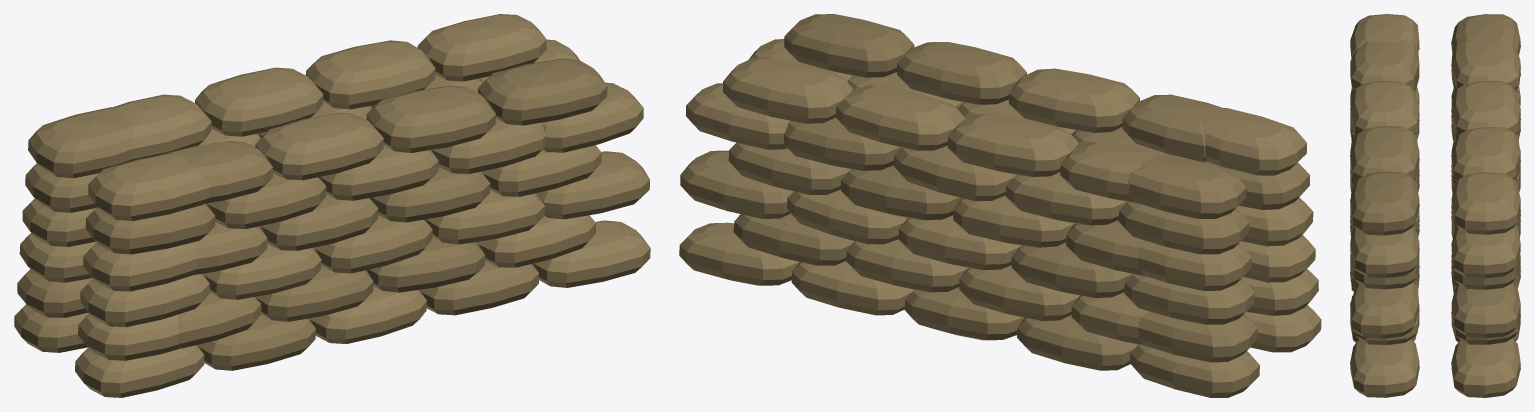
File: sandbags_small.glb
3 views of the same model, side by side, from view 1: azimuth 30°, elevation 25°; view 2: azimuth 150°, elevation 25°; view 3: azimuth 270°, elevation 25° (orthographic). The views are drawn at different scales.
Parts seen in each view (by area): view 1: root; view 2: root; view 3: root.
Boxes of the visible parts, x1=… form: root: x1=14, y1=14, x2=650, y2=397; root: x1=679, y1=14, x2=1321, y2=397; root: x1=1350, y1=14, x2=1520, y2=397.
Bounding box in the file's own units: 2.45 × 0.8971 × 0.7772.
